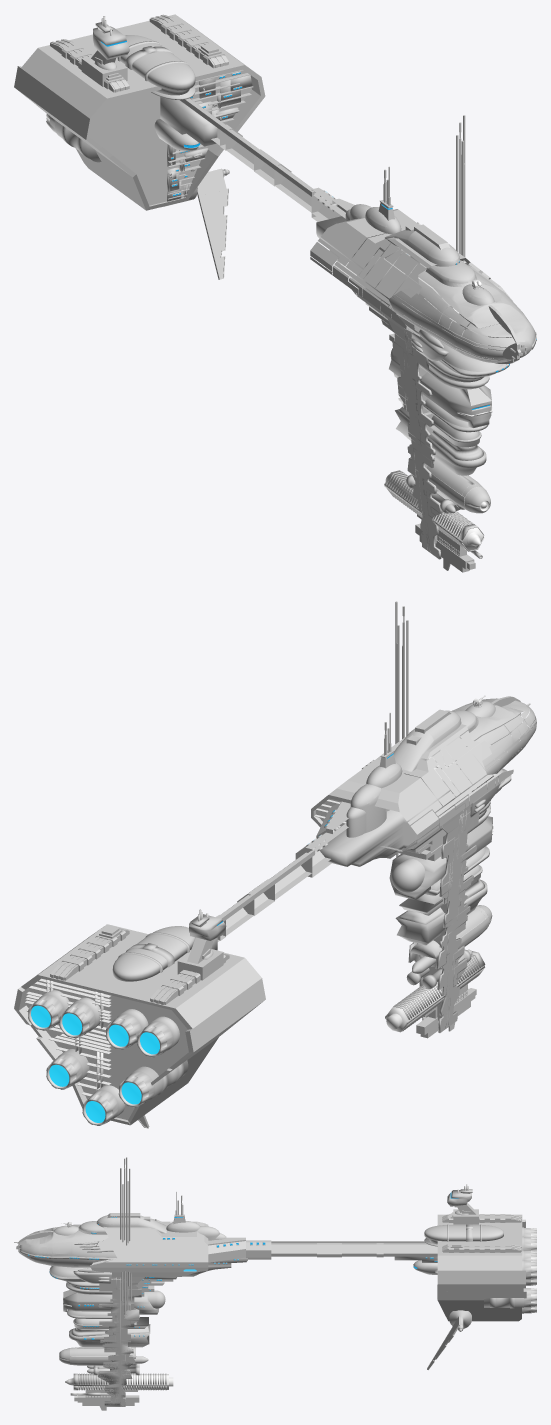
Rendered from 尼布隆B级警戒护航舰.glb.
3 renders of one model, top to bottom at view 1: azimuth 30°, elevation 25°; view 2: azimuth 150°, elevation 25°; view 3: azimuth 270°, elevation 25°, orthographic. The views are drawn at different scales.
Visible parts, largest first — view 1: HullPlating, LowerSection, BackSection, BackSectionExtras, ConnectingSpar, GreeblesBackSection, StaticDischangeVanes, FrontSectionExtras, GreeblesFrontSection2, FrontSection, Engines; view 2: HullPlating, LowerSection, BackSection, Engines, BackSectionExtras, ConnectingSpar, GreeblesBackSection, FrontSectionExtras, GreeblesFrontSection2, FrontSection; view 3: HullPlating, LowerSection, BackSection, ConnectingSpar, BackSectionExtras, FrontSection, FrontSectionExtras, Engines, GreeblesFrontSection2, GreeblesFrontSection, StaticDischangeVanes.
Part boxes in pixels (x1=…): HullPlating: x1=14, y1=15, x2=534, y2=558; LowerSection: x1=316, y1=216, x2=508, y2=572; BackSection: x1=14, y1=14, x2=265, y2=210; BackSectionExtras: x1=50, y1=14, x2=228, y2=150; ConnectingSpar: x1=180, y1=98, x2=354, y2=221; GreeblesBackSection: x1=167, y1=70, x2=253, y2=201; StaticDischangeVanes: x1=161, y1=168, x2=229, y2=279; FrontSectionExtras: x1=346, y1=200, x2=521, y2=364; GreeblesFrontSection2: x1=383, y1=115, x2=515, y2=359; FrontSection: x1=401, y1=225, x2=535, y2=357; Engines: x1=46, y1=114, x2=101, y2=162; HullPlating: x1=51, y1=698, x2=536, y2=1124; LowerSection: x1=319, y1=768, x2=511, y2=1038; BackSection: x1=14, y1=924, x2=263, y2=1125; Engines: x1=28, y1=990, x2=188, y2=1125; BackSectionExtras: x1=50, y1=909, x2=229, y2=1004; ConnectingSpar: x1=216, y1=801, x2=350, y2=941; GreeblesBackSection: x1=24, y1=978, x2=111, y2=1096; FrontSectionExtras: x1=346, y1=696, x2=520, y2=837; GreeblesFrontSection2: x1=384, y1=601, x2=530, y2=856; FrontSection: x1=311, y1=698, x2=497, y2=827; HullPlating: x1=19, y1=1214, x2=526, y2=1406; LowerSection: x1=49, y1=1258, x2=247, y2=1410; BackSection: x1=437, y1=1215, x2=526, y2=1320; ConnectingSpar: x1=208, y1=1237, x2=437, y2=1262; BackSectionExtras: x1=394, y1=1184, x2=521, y2=1274; FrontSection: x1=19, y1=1229, x2=208, y2=1276; FrontSectionExtras: x1=16, y1=1213, x2=226, y2=1252; Engines: x1=484, y1=1227, x2=536, y2=1313; GreeblesFrontSection2: x1=14, y1=1157, x2=183, y2=1314; GreeblesFrontSection: x1=19, y1=1216, x2=265, y2=1339; StaticDischangeVanes: x1=427, y1=1310, x2=471, y2=1369.
Size of the model in its own units: 14.49 by 33.33 by 59.86.
